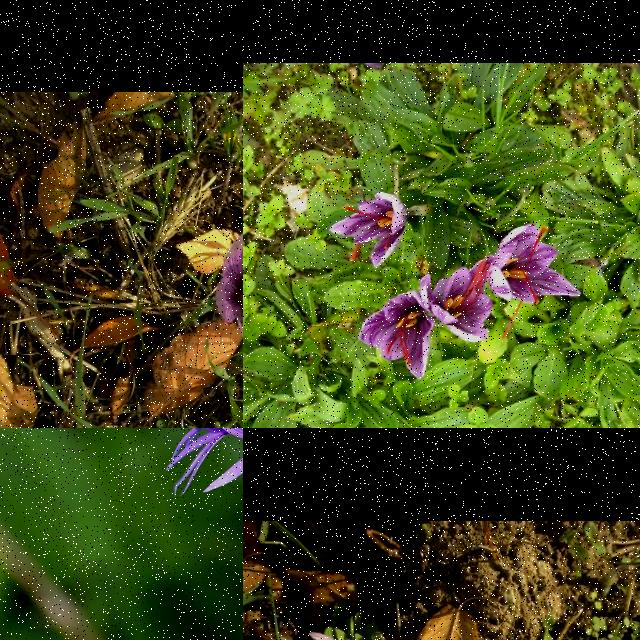flower: (490, 224, 580, 340), (358, 291, 436, 381), (421, 256, 494, 344), (330, 192, 414, 266), (215, 223, 243, 365)
